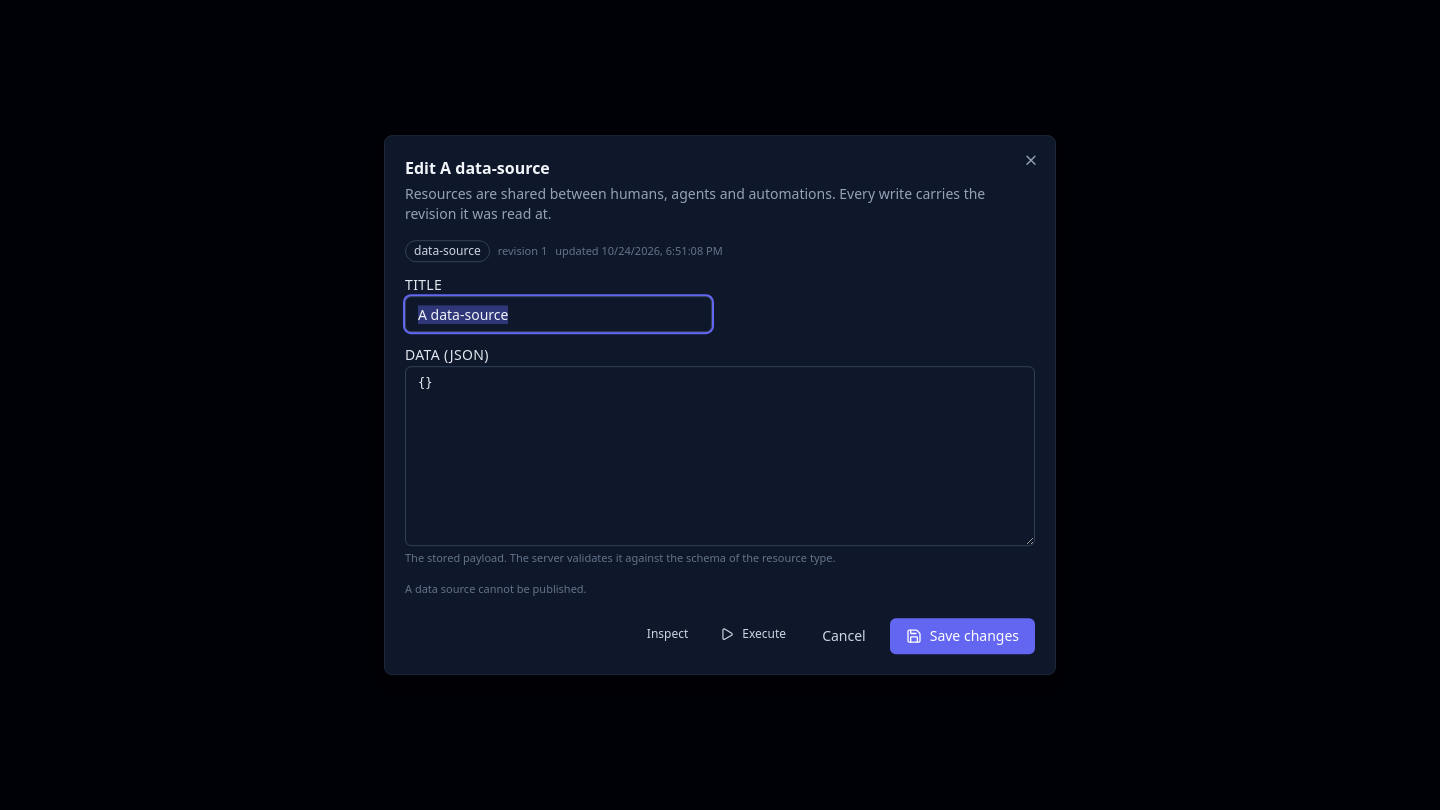
Test: the outcome the panel renders › says a resource ran when the server says it ran
Step 1. Click the button "Execute" → (753, 634), box x1=708 y1=618 x2=798 y2=650
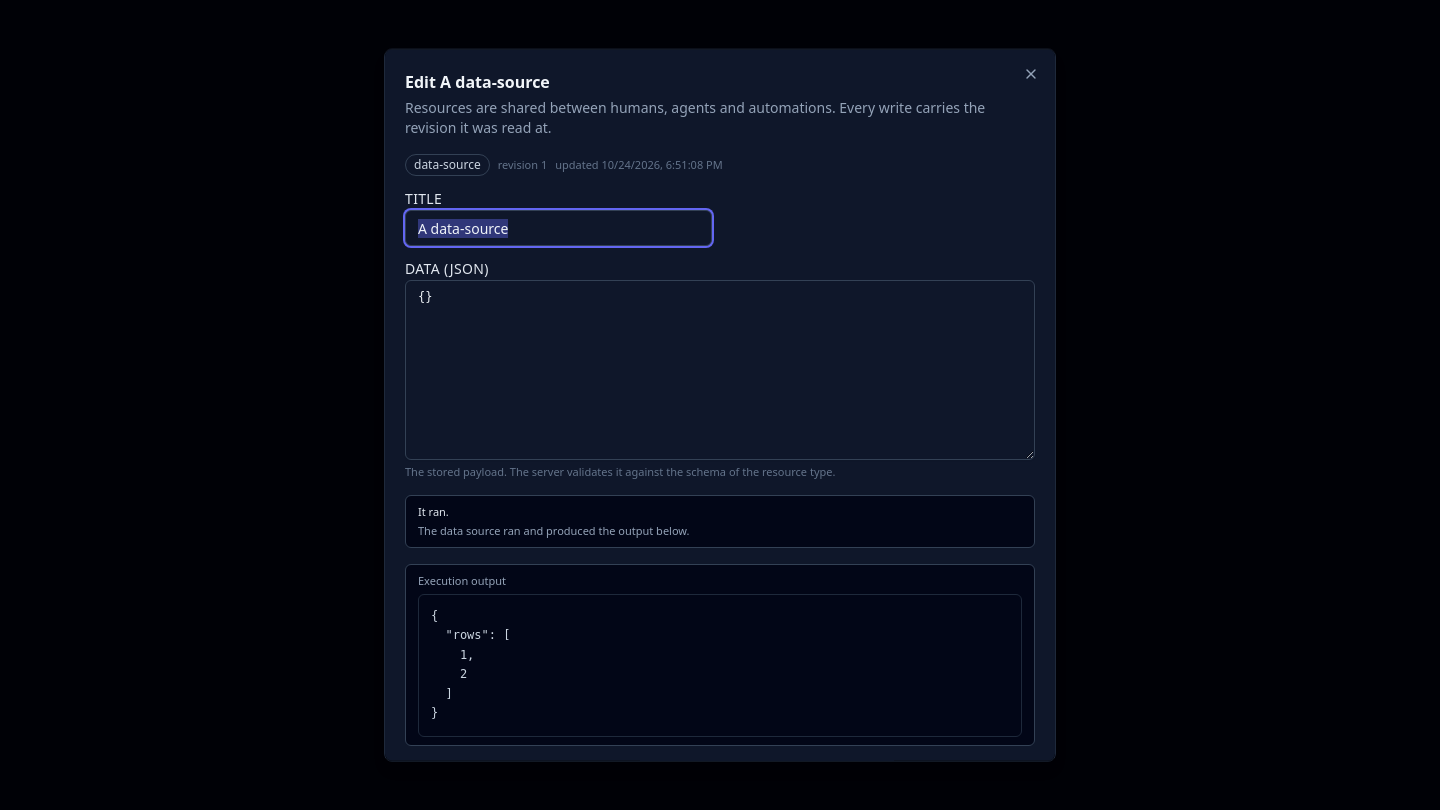
Now the text "It ran." is shown, box x1=418 y1=504 x2=449 y2=519
Now the text "The data source ran and produced the output below." is shown, box x1=418 y1=522 x2=690 y2=537
